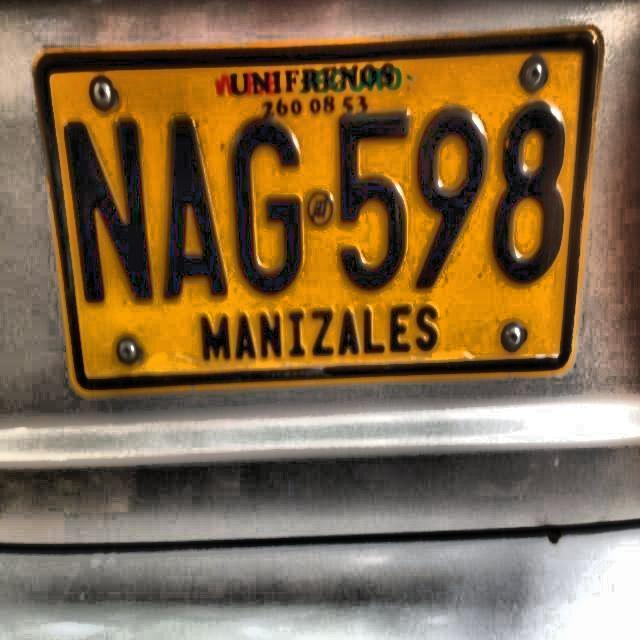plate: (38, 37, 595, 391)
